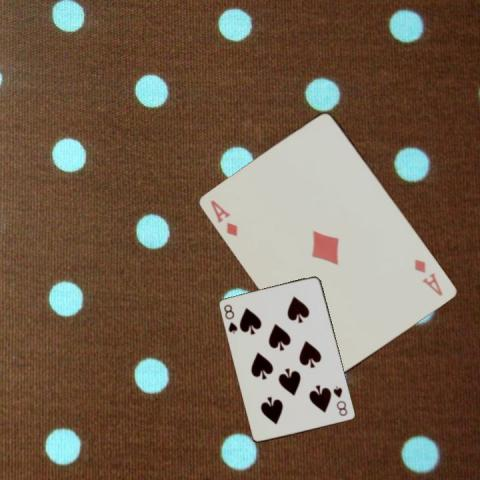8s: (330, 384, 348, 418), (222, 302, 240, 336)
Ad: (411, 255, 445, 298), (207, 197, 240, 238)
